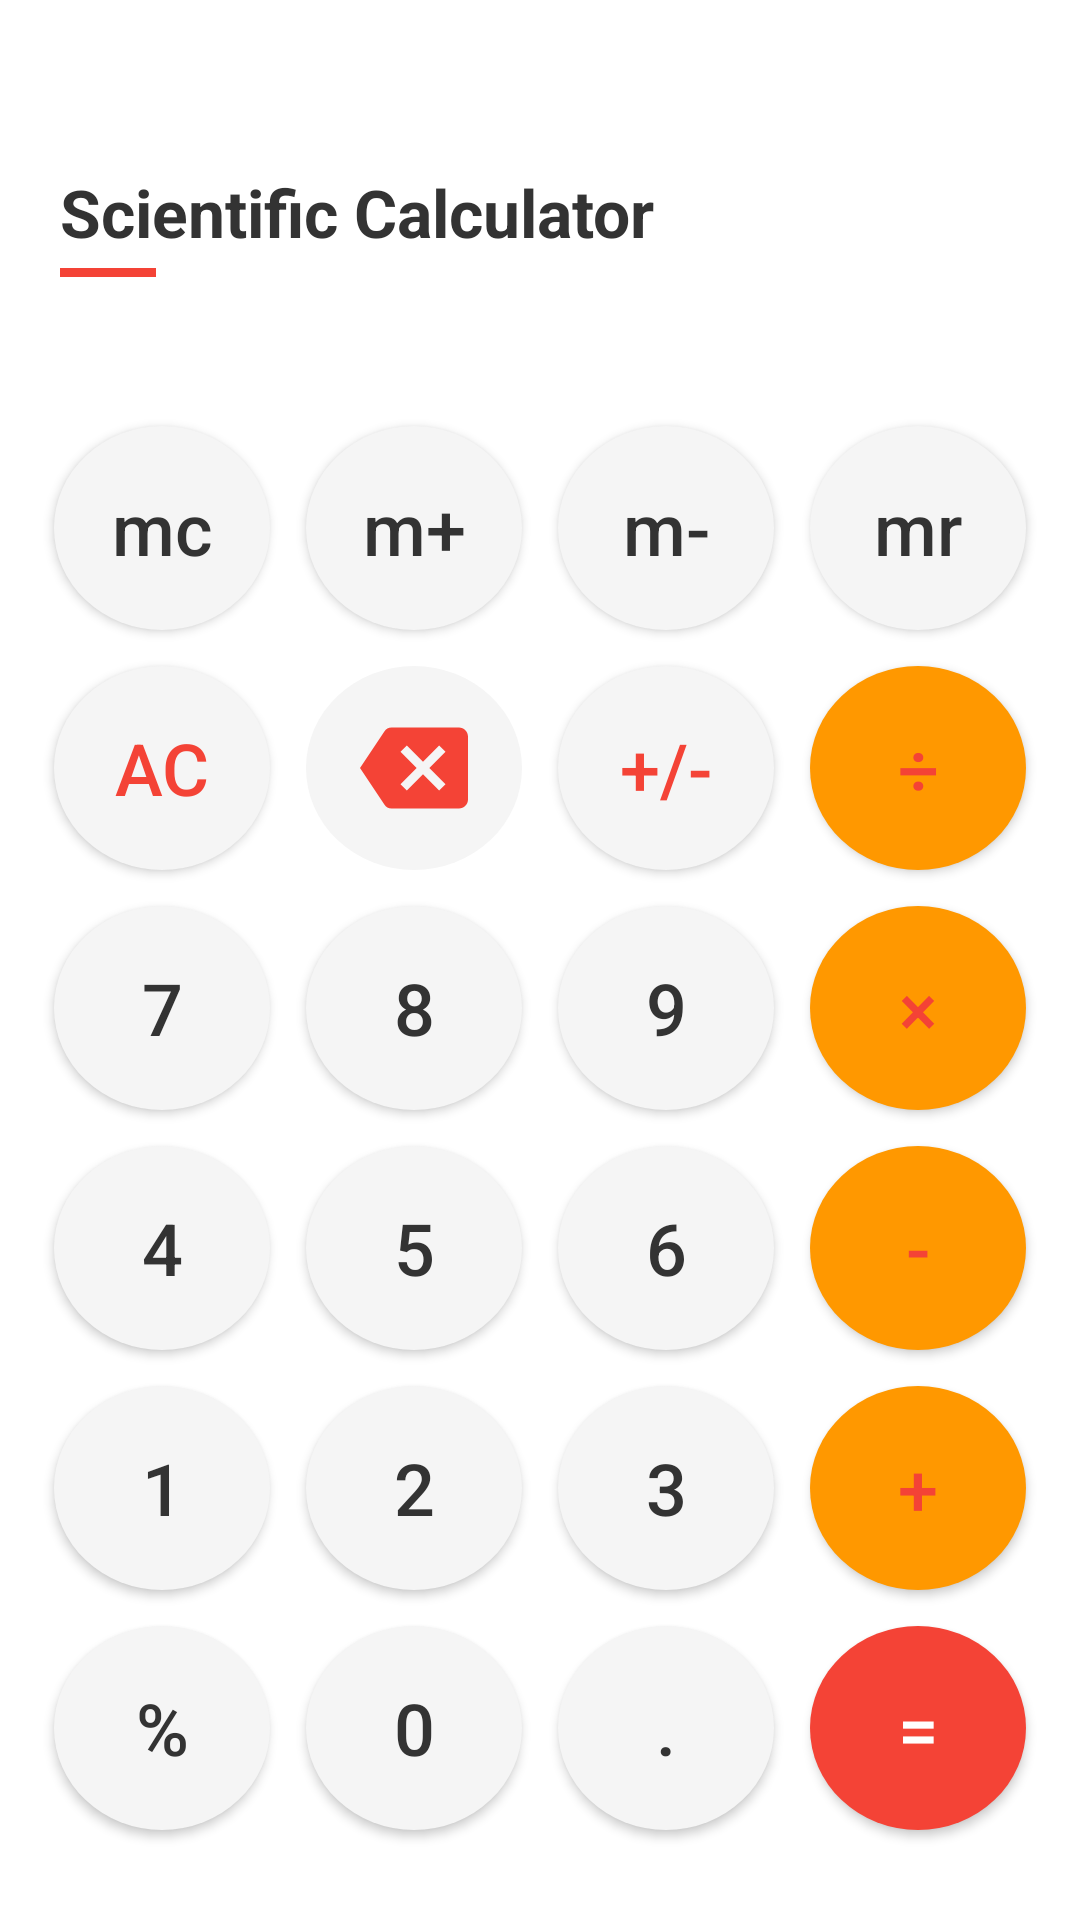

Point at icon controls on the screen. Image size 1080w x 1920h, points as (x,y).
Backspace: (414,768)
